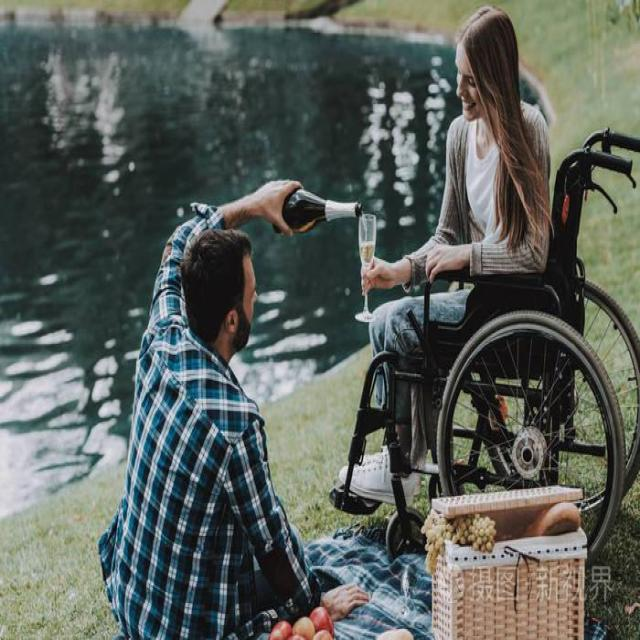wheelchairs: (326, 110, 640, 563)
